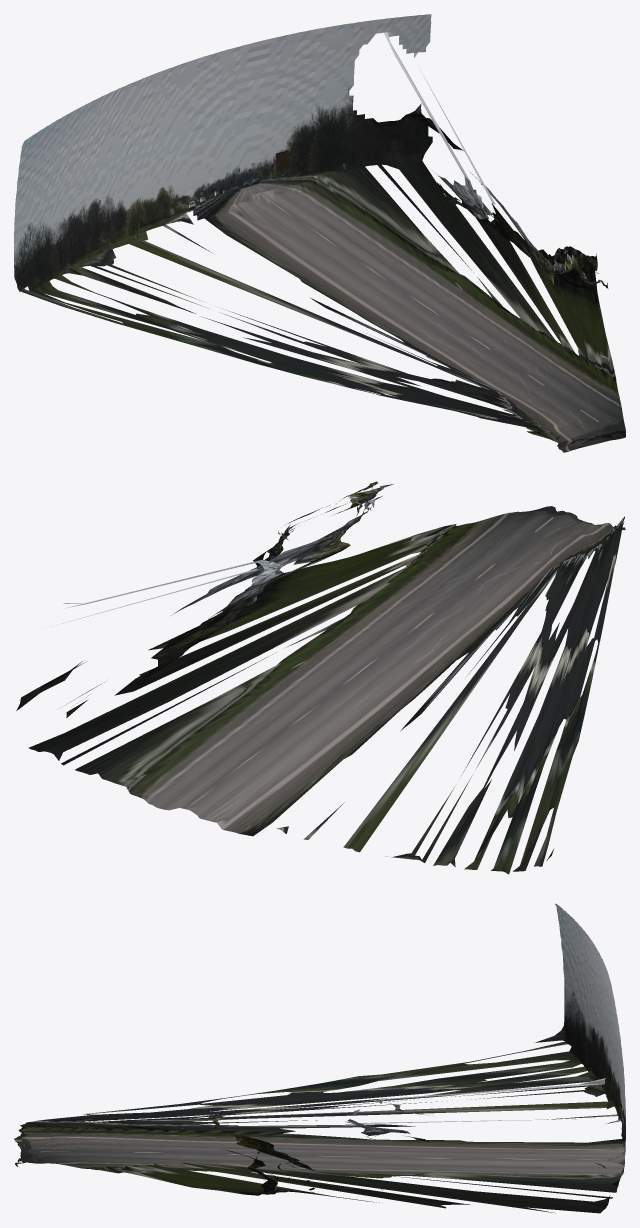
3 views of the same model, one above another, from view 1: azimuth 30°, elevation 25°; view 2: azimuth 150°, elevation 25°; view 3: azimuth 270°, elevation 25° (orthographic). The views are drawn at different scales.
Parts seen in each view (by area): view 1: defaultobject; view 2: defaultobject; view 3: defaultobject.
Part boxes in pixels (left/top/right/bottom): defaultobject: left=14, top=14, right=625, bottom=452; defaultobject: left=16, top=481, right=625, bottom=874; defaultobject: left=14, top=903, right=625, bottom=1213.
Size of the model in its own units: 33.06 by 12.58 by 44.61.
1 material, 1 textured.
